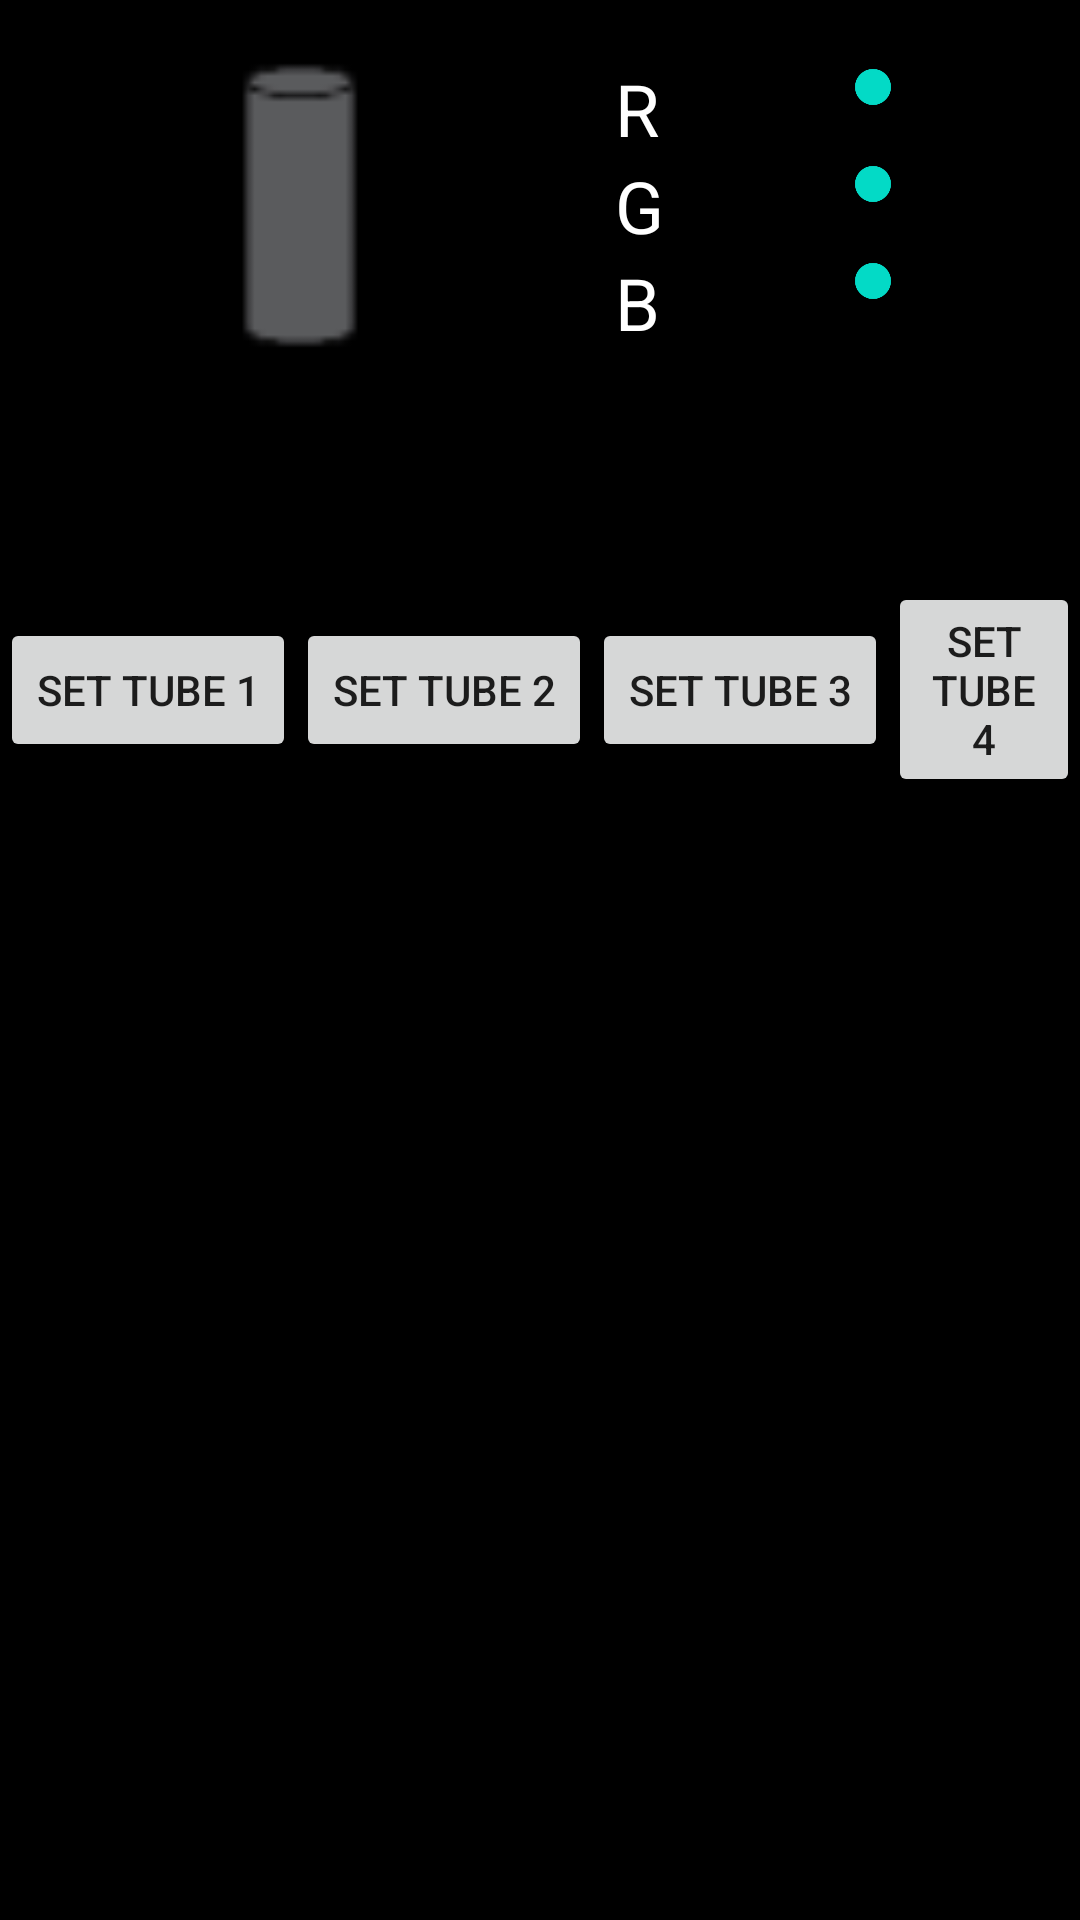

Point at icon controls on the screen. Image size 1080 × 1920, points as [x,y].
tube: [300,205]
